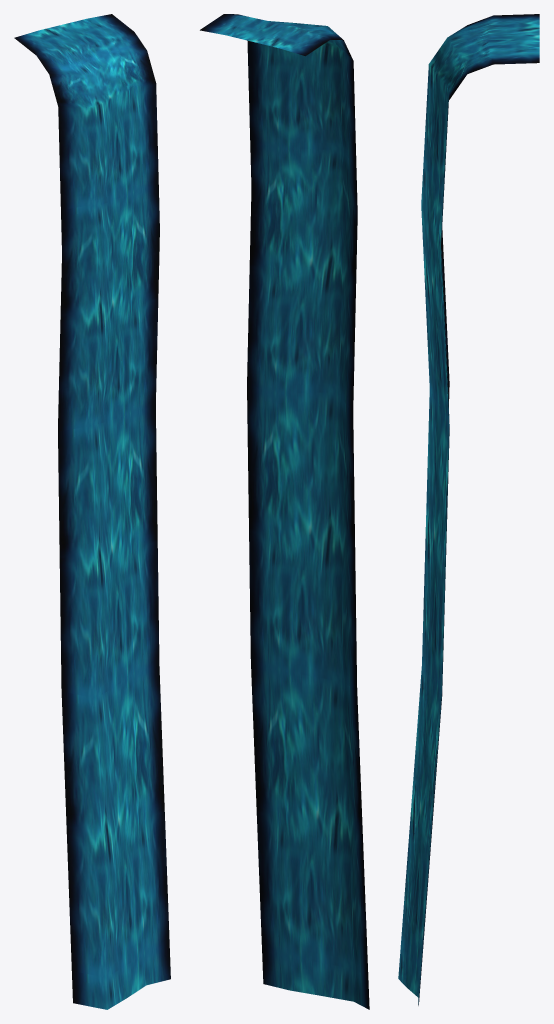
3 renders of one model, left to right at view 1: azimuth 30°, elevation 25°; view 2: azimuth 150°, elevation 25°; view 3: azimuth 270°, elevation 25°, orthographic. The views are drawn at different scales.
Visible parts, largest first — view 1: object44; view 2: object44; view 3: object44.
Part boxes in pixels (x1,y1,x2,y2): object44: (14,14,170,1009); object44: (200,14,369,1009); object44: (398,14,539,1005).
Size of the model in its own units: 273 by 2472 by 332.
1 material, 1 textured.
